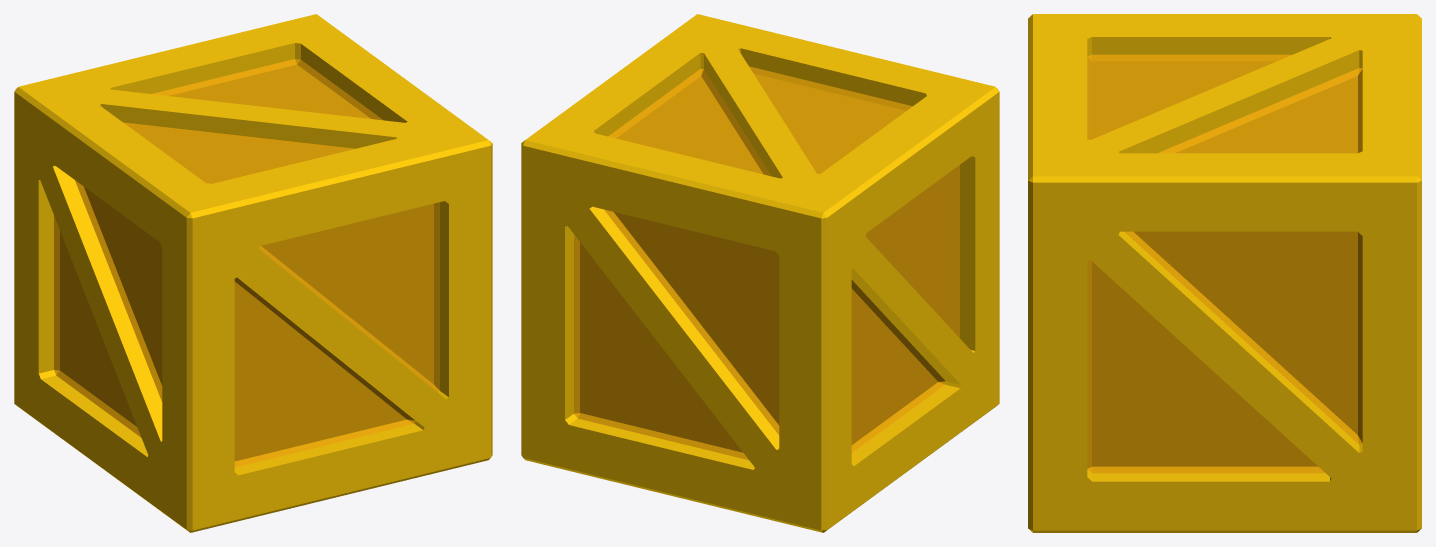
Rendered from HJD_FP_crate00.fbx.
3 renders of one model, left to right at view 1: azimuth 30°, elevation 25°; view 2: azimuth 150°, elevation 25°; view 3: azimuth 270°, elevation 25°, orthographic. The views are drawn at different scales.
Parts seen in each view (by area): view 1: transform_unity_scale17; view 2: transform_unity_scale17; view 3: transform_unity_scale17.
Part boxes in pixels (x1=…): transform_unity_scale17: x1=14, y1=14, x2=492, y2=532; transform_unity_scale17: x1=521, y1=14, x2=999, y2=532; transform_unity_scale17: x1=1028, y1=14, x2=1421, y2=532.
Size of the model in its own units: 80 by 80 by 80.
